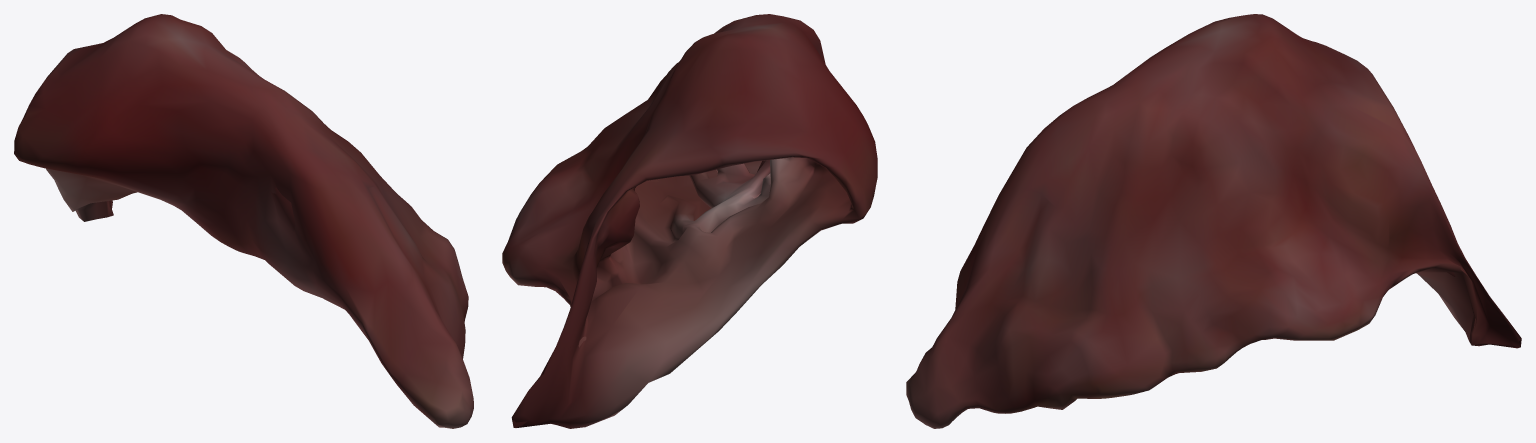
The model's file is heartear.glb.
The picture shows the model from 3 angles, left to right: view 1: azimuth 30°, elevation 25°; view 2: azimuth 150°, elevation 25°; view 3: azimuth 270°, elevation 25°; orthographic projection. The views are drawn at different scales.
Visible parts, largest first — view 1: Heartear; view 2: Heartear; view 3: Heartear.
Boxes of the visible parts, box(x1,y1,x2,y2) form: Heartear: box(14, 14, 473, 428); Heartear: box(502, 14, 877, 428); Heartear: box(906, 14, 1521, 428).
Bounding box in the file's own units: 0.942 × 0.8435 × 1.41.
